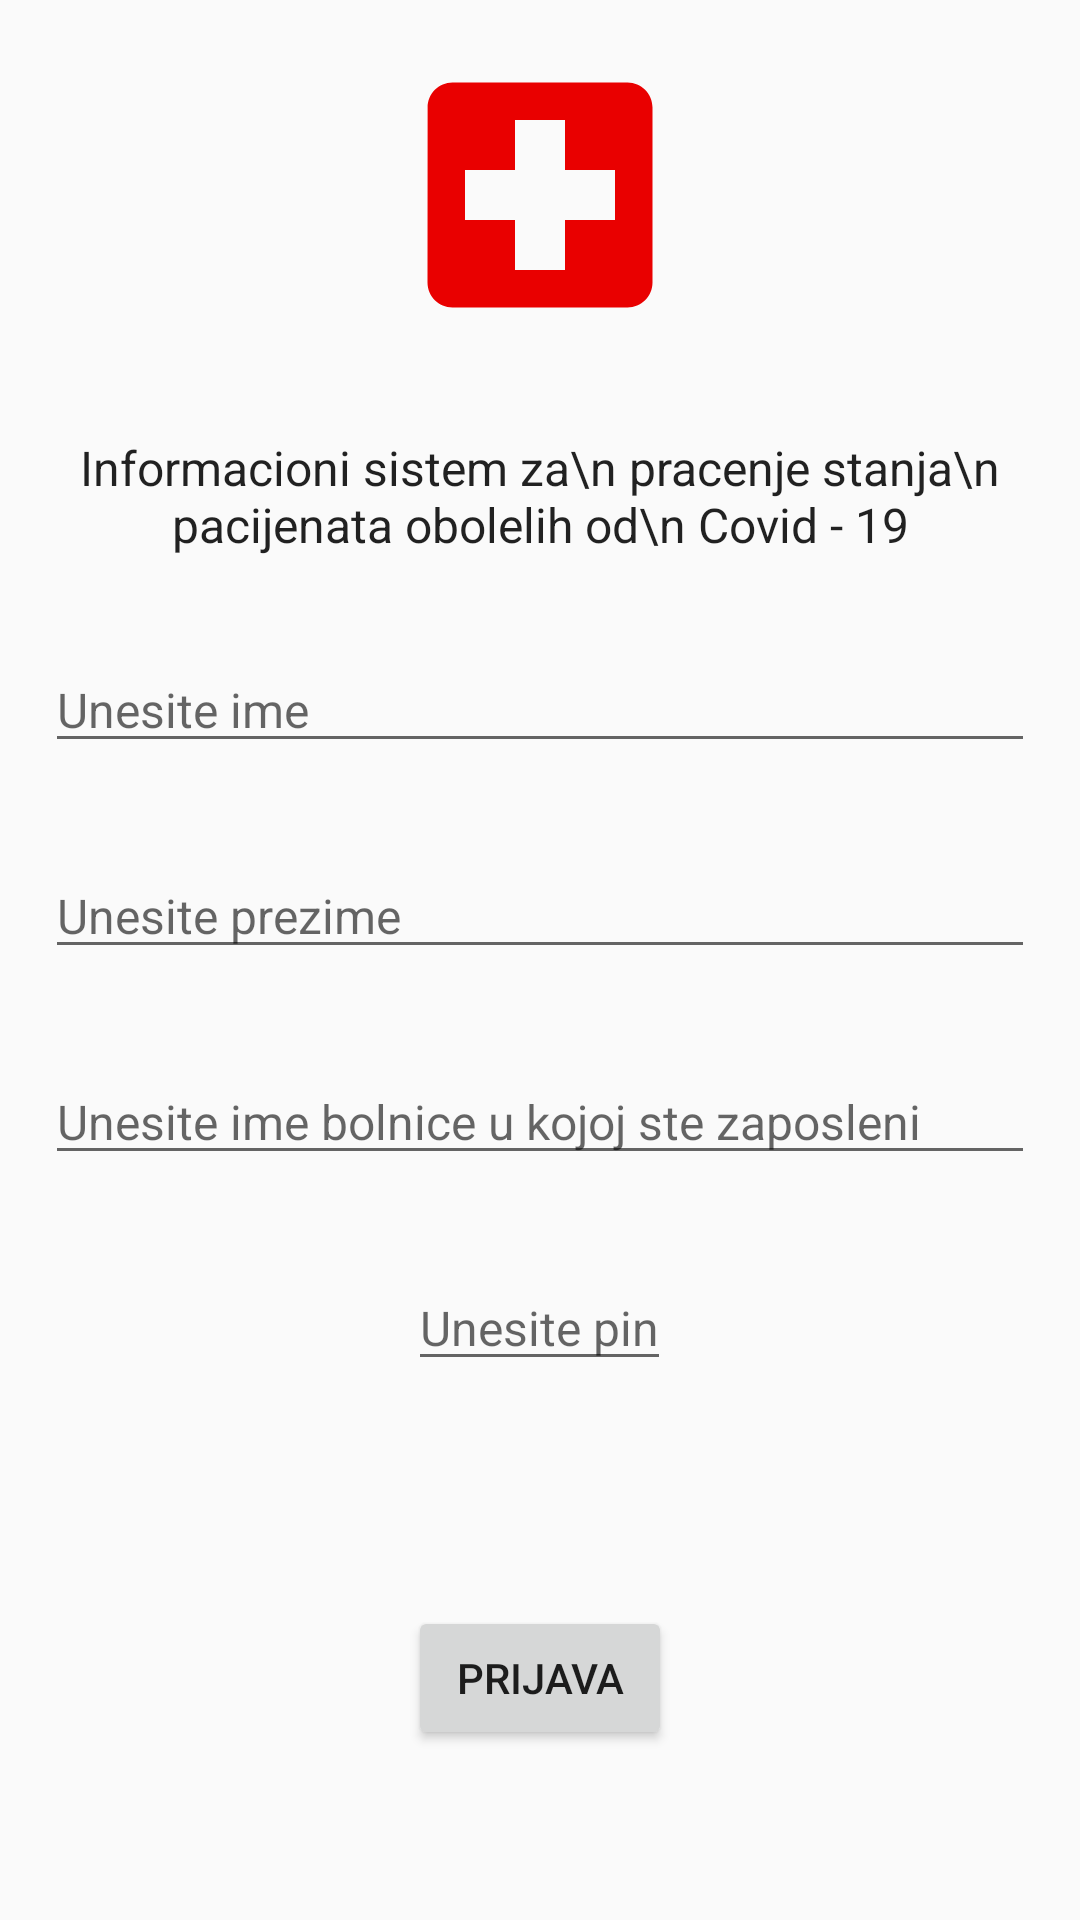

Named icons in this screenshot (1080 × 1920) and their centers, point (x, y):
hospital: point (540, 195)
